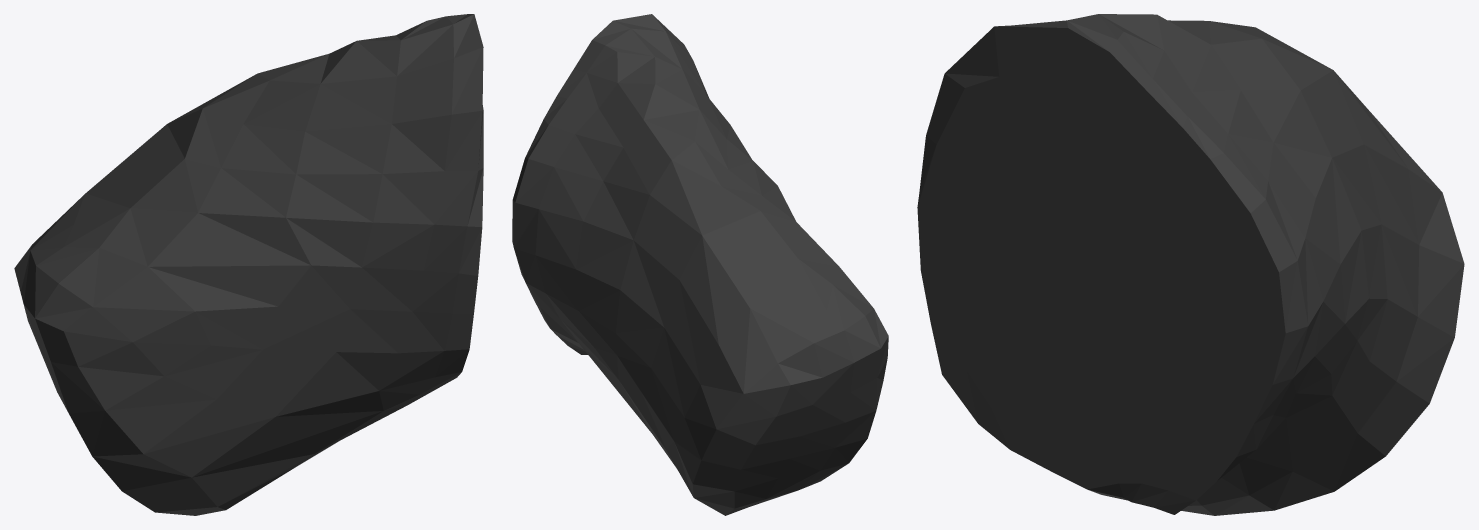
Rendered from R_sided_CAUD_VEN_CAVA.glb.
3 views of the same model, side by side, from view 1: azimuth 30°, elevation 25°; view 2: azimuth 150°, elevation 25°; view 3: azimuth 270°, elevation 25° (orthographic). The views are drawn at different scales.
Visible parts, largest first — view 1: R_sided_CAUD_VEN_CAVA; view 2: R_sided_CAUD_VEN_CAVA; view 3: R_sided_CAUD_VEN_CAVA.
Part boxes in pixels (<box>): R_sided_CAUD_VEN_CAVA: <box>14,14,483,515</box>; R_sided_CAUD_VEN_CAVA: <box>512,14,888,515</box>; R_sided_CAUD_VEN_CAVA: <box>917,14,1464,515</box>.
Bounding box in the file's own units: 2.94 × 3.14 × 2.51.
1 material, 1 textured.
